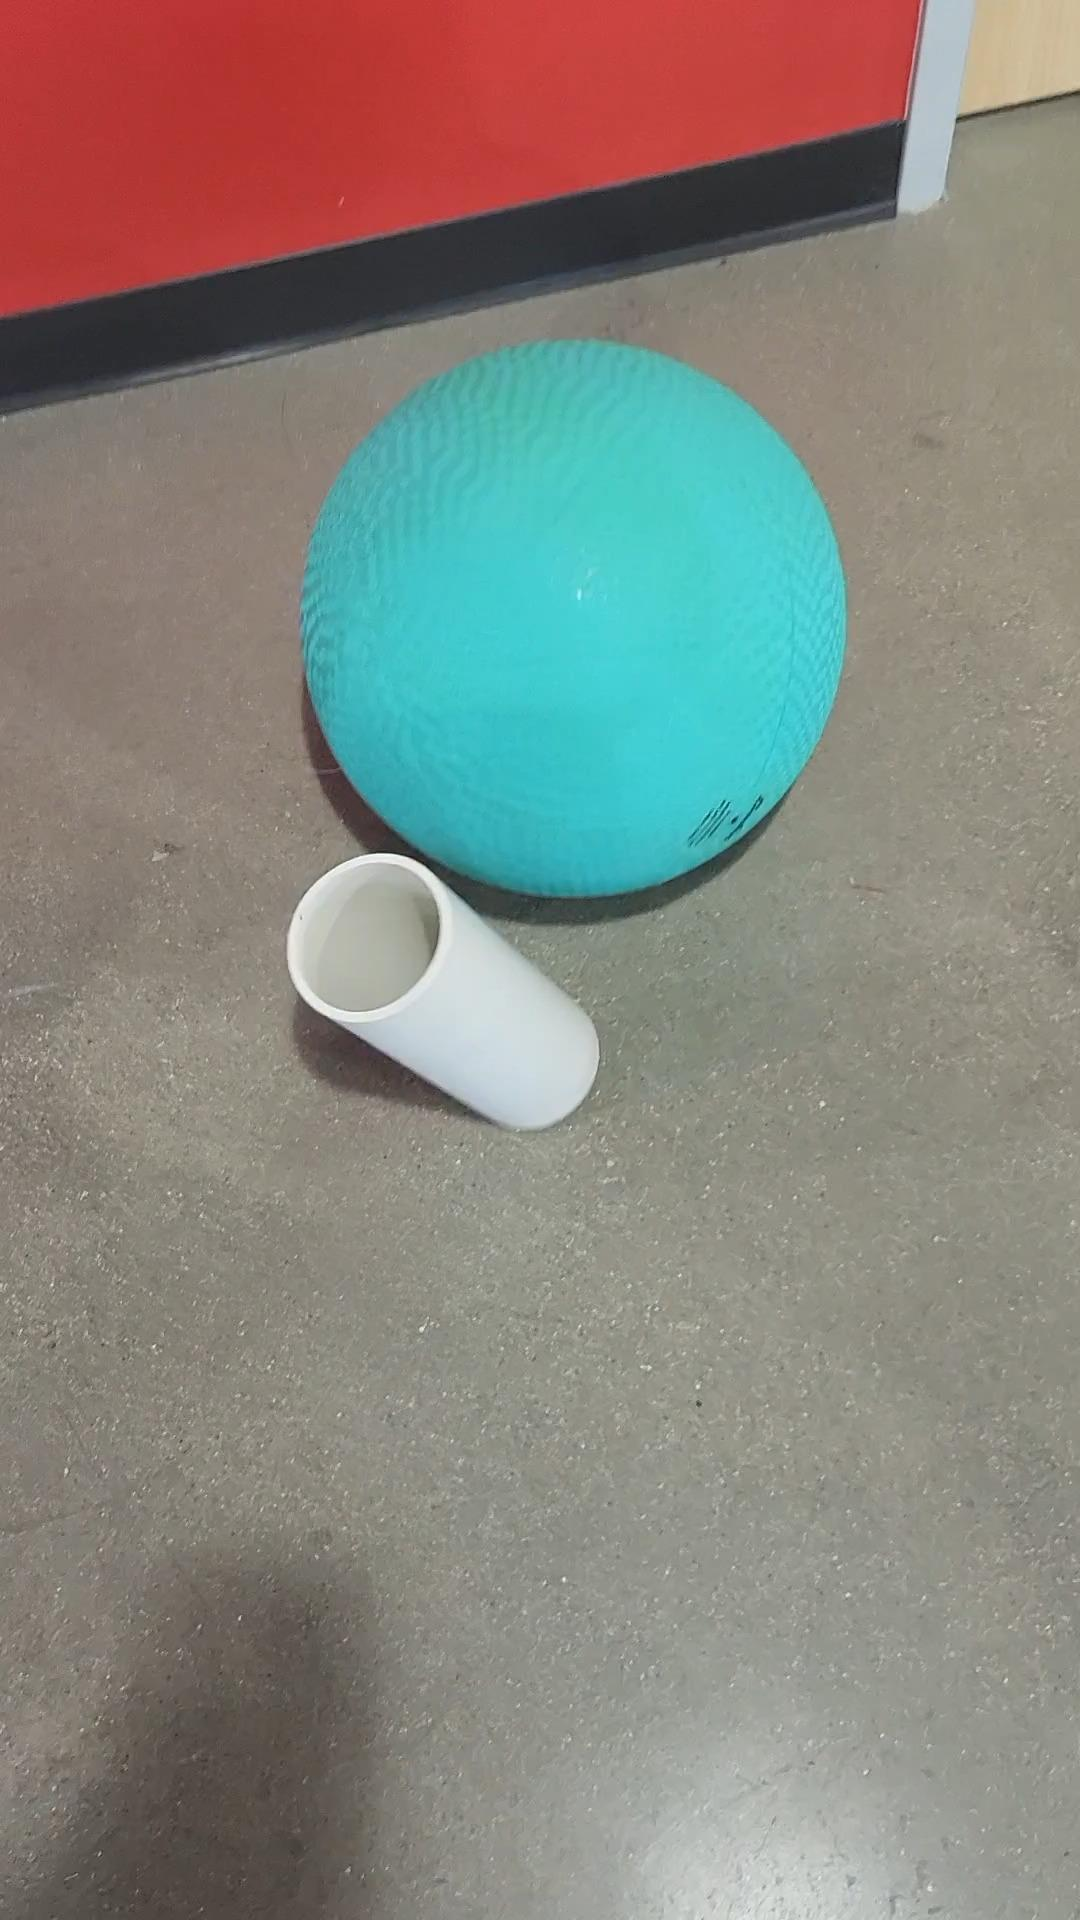algae: (291, 336, 855, 905)
coral: (251, 851, 622, 1156)
